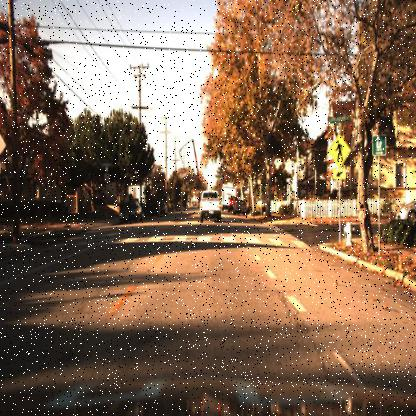car: (196, 187, 226, 227), (117, 198, 144, 225), (232, 198, 248, 217), (154, 198, 169, 216)
truck: (220, 180, 237, 216)
